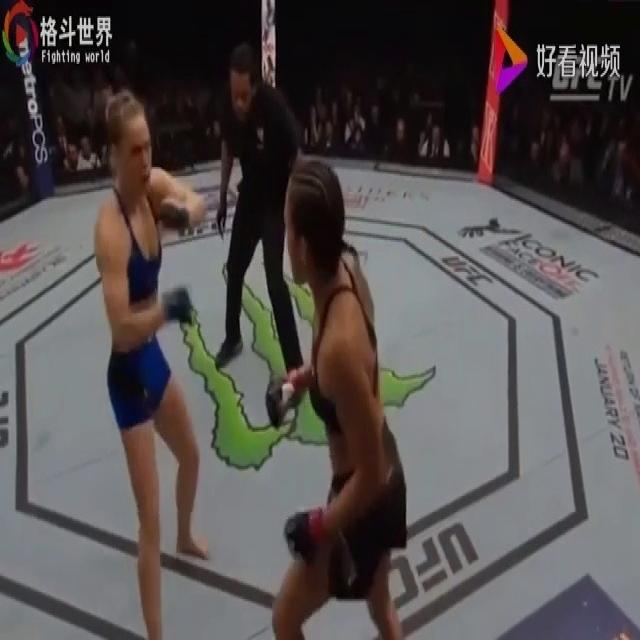fight: (98, 59, 430, 638)
non-fight: (210, 34, 309, 439)
